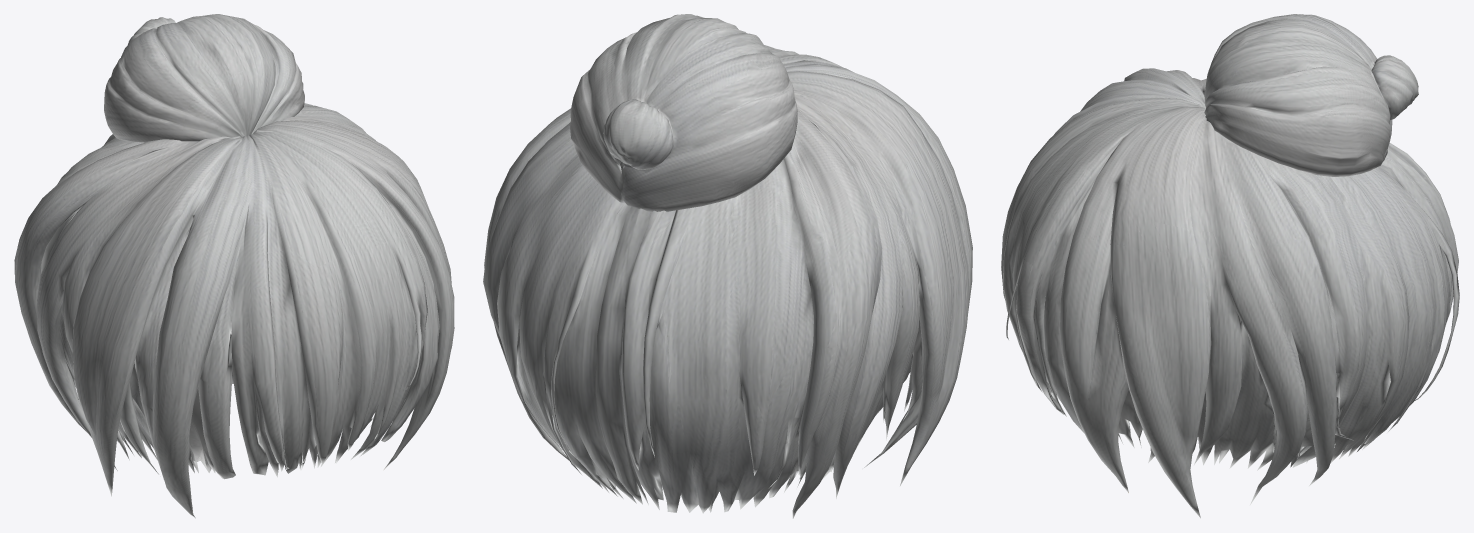
File: hair-6.glb
The picture shows the model from 3 angles, left to right: view 1: azimuth 30°, elevation 25°; view 2: azimuth 150°, elevation 25°; view 3: azimuth 270°, elevation 25°; orthographic projection. The views are drawn at different scales.
Size of the model in its own units: 0.8276 by 0.9517 by 0.9136.
1 material, 1 textured.
